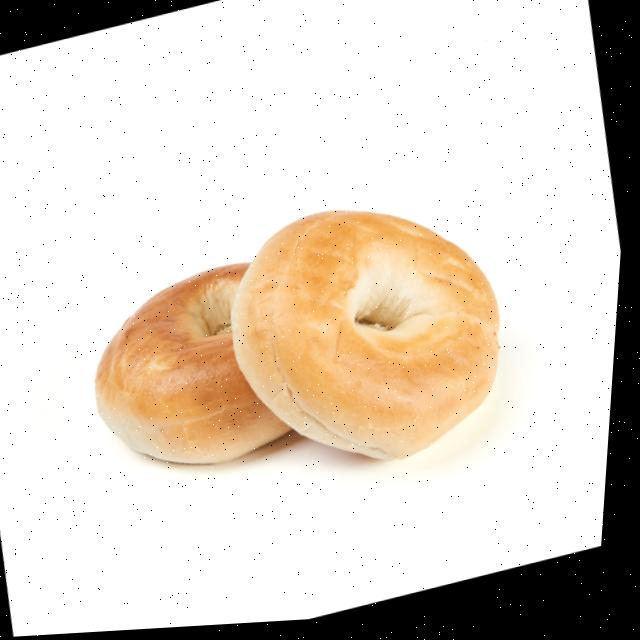Bagel: (235, 215, 504, 465), (101, 266, 296, 467)
